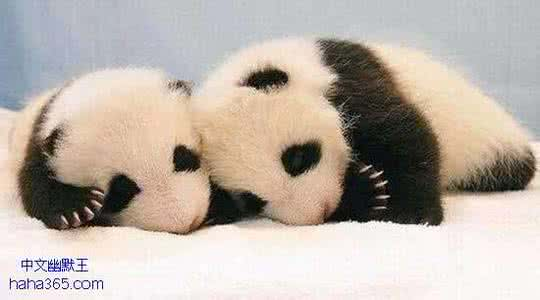panda: (193, 33, 531, 229), (11, 62, 220, 234)
